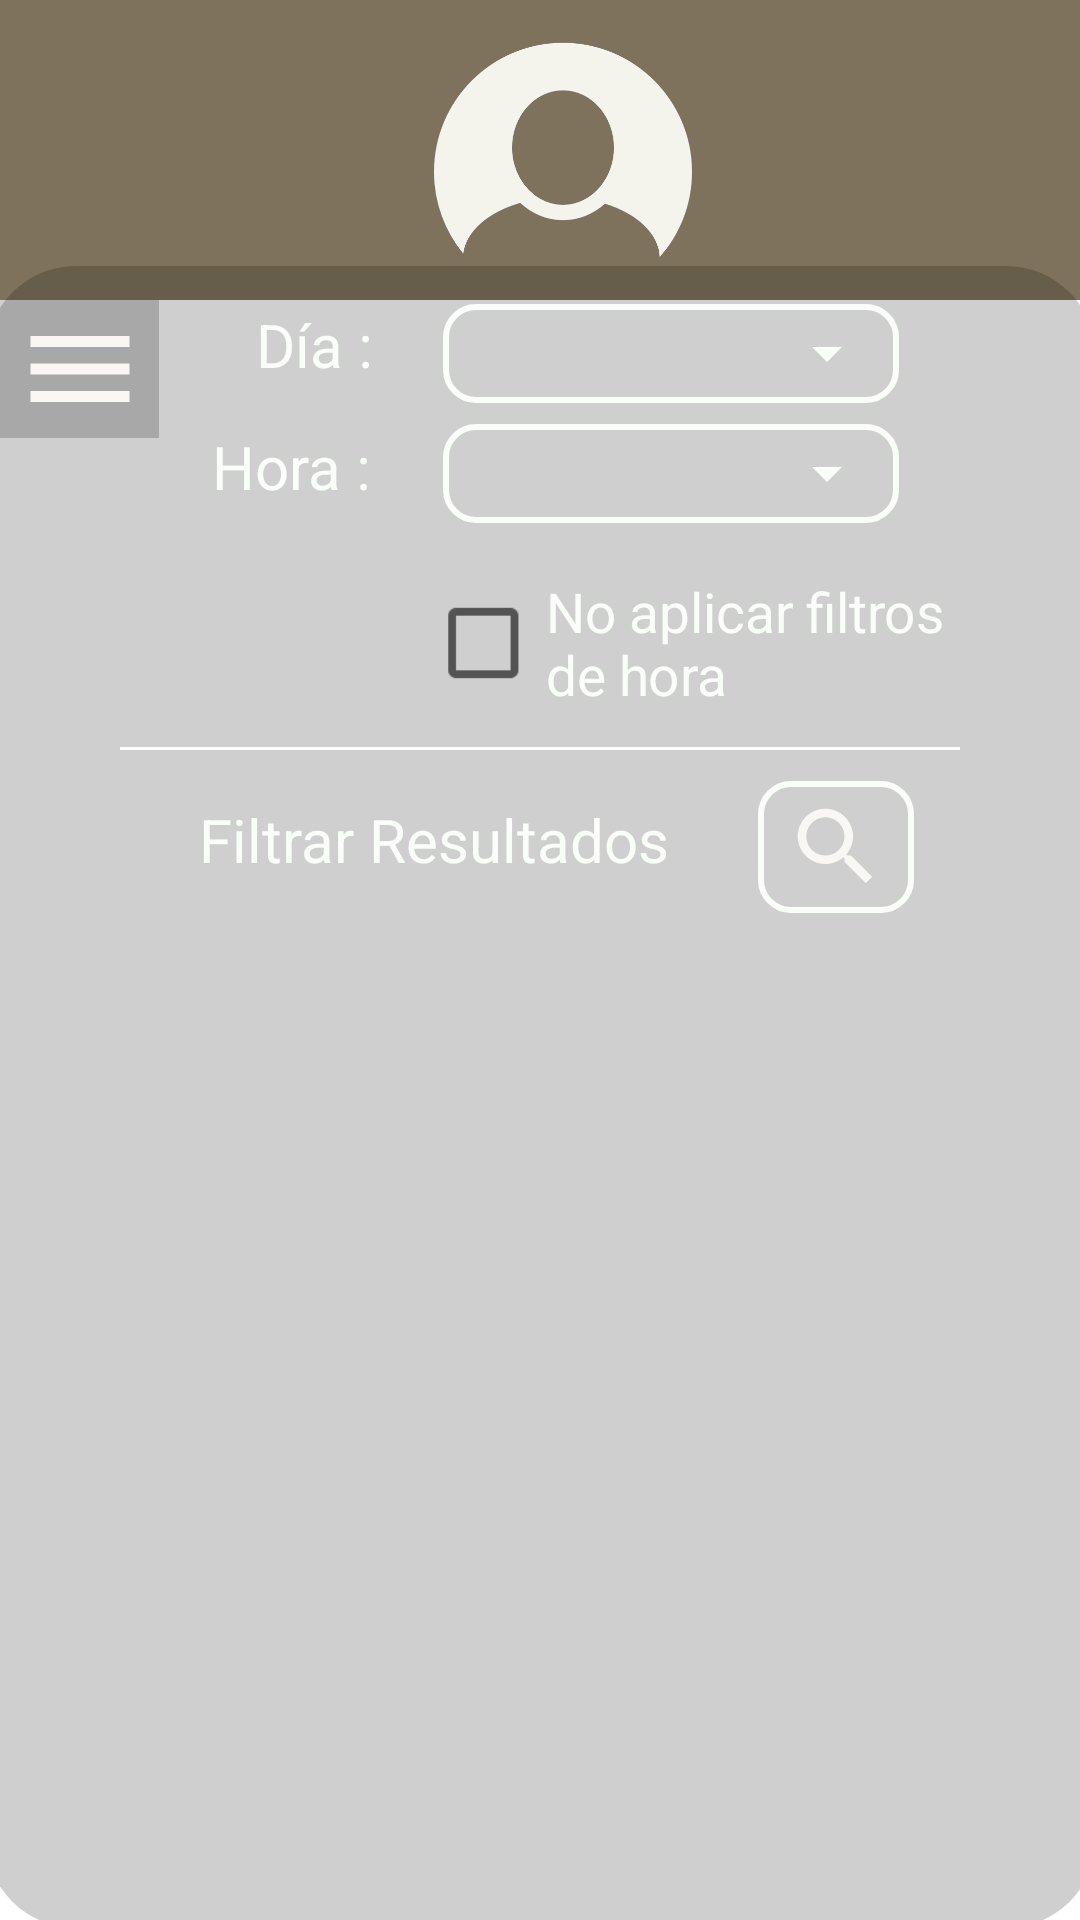

Named icons in this screenshot (1080px×1920px) and their bounding boxes, (x1, y1, x2, y2):
Open menu: (0, 300, 159, 438)
search: (758, 781, 914, 913)
user: (434, 43, 692, 257)
